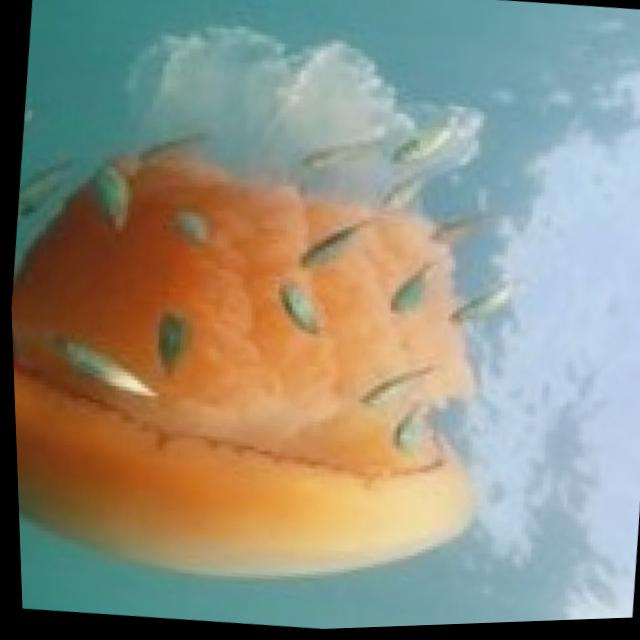Jellyfish: (0, 0, 540, 634)
